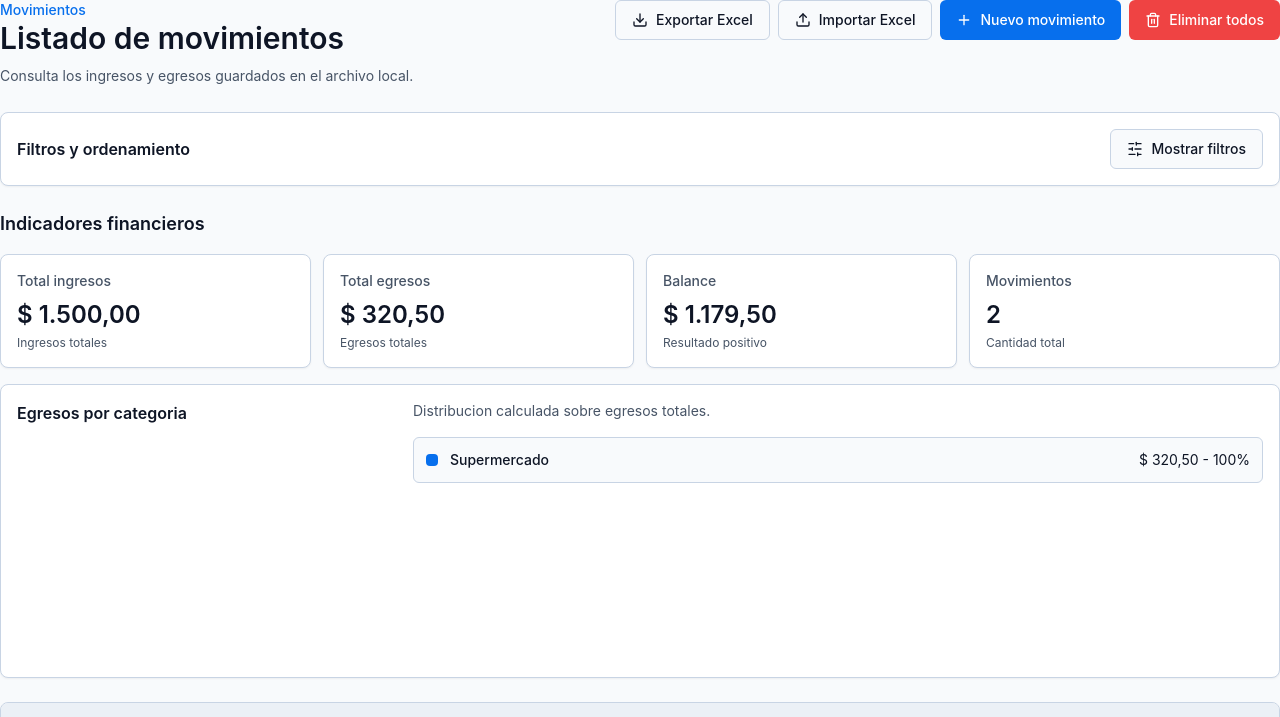
TransactionsPage › TransactionsPage_WhenDeleteAllPasswordIsValid_ShouldDeleteRefreshAndClose
Click the button "Eliminar todos" at (1205, 20), box [1129, 0, 1279, 40]
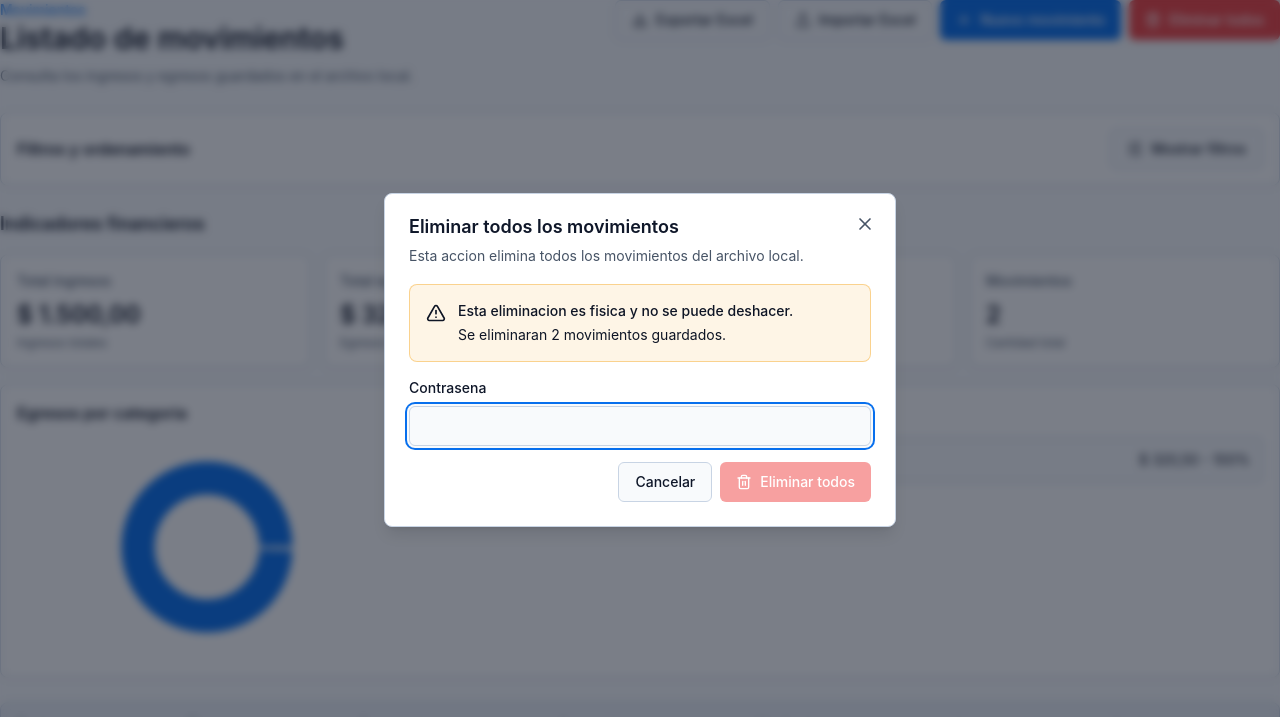
Type "correct-password" into the password field labelled "Contrasena" at (640, 426), box [409, 406, 871, 446]
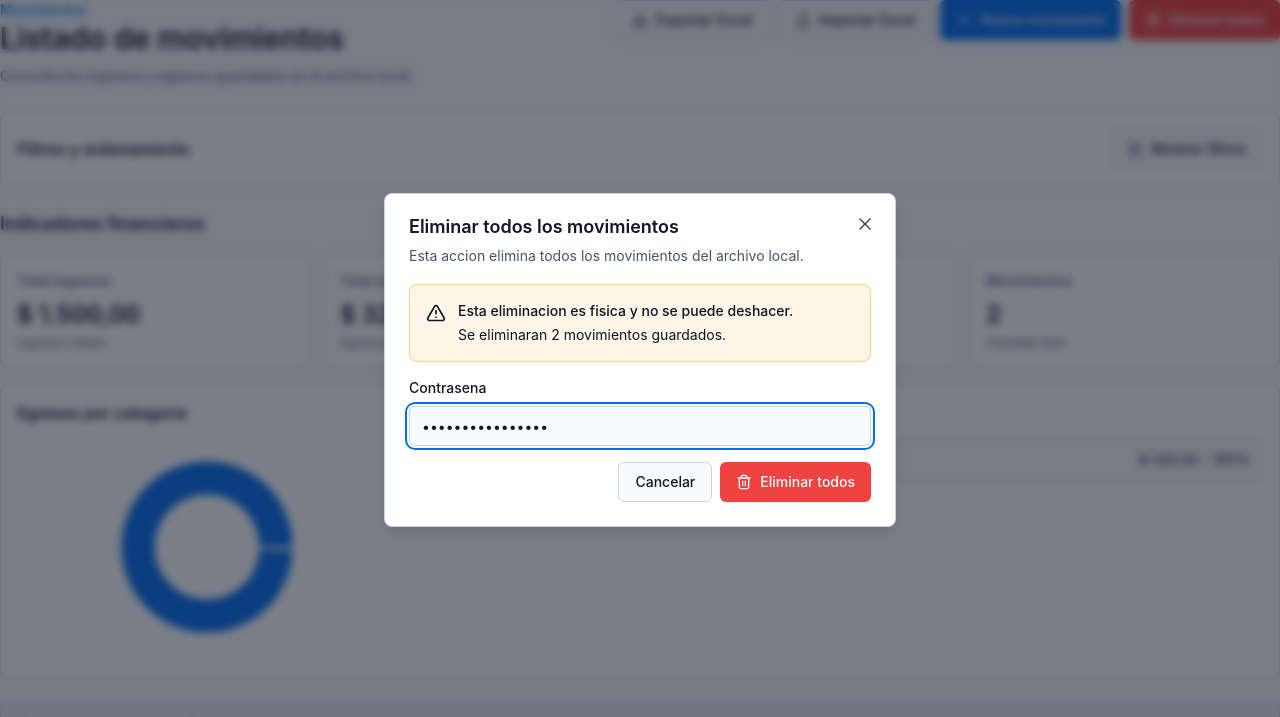
Click the button "Eliminar todos" at (796, 482), box [720, 462, 871, 502]
(page scrolled)
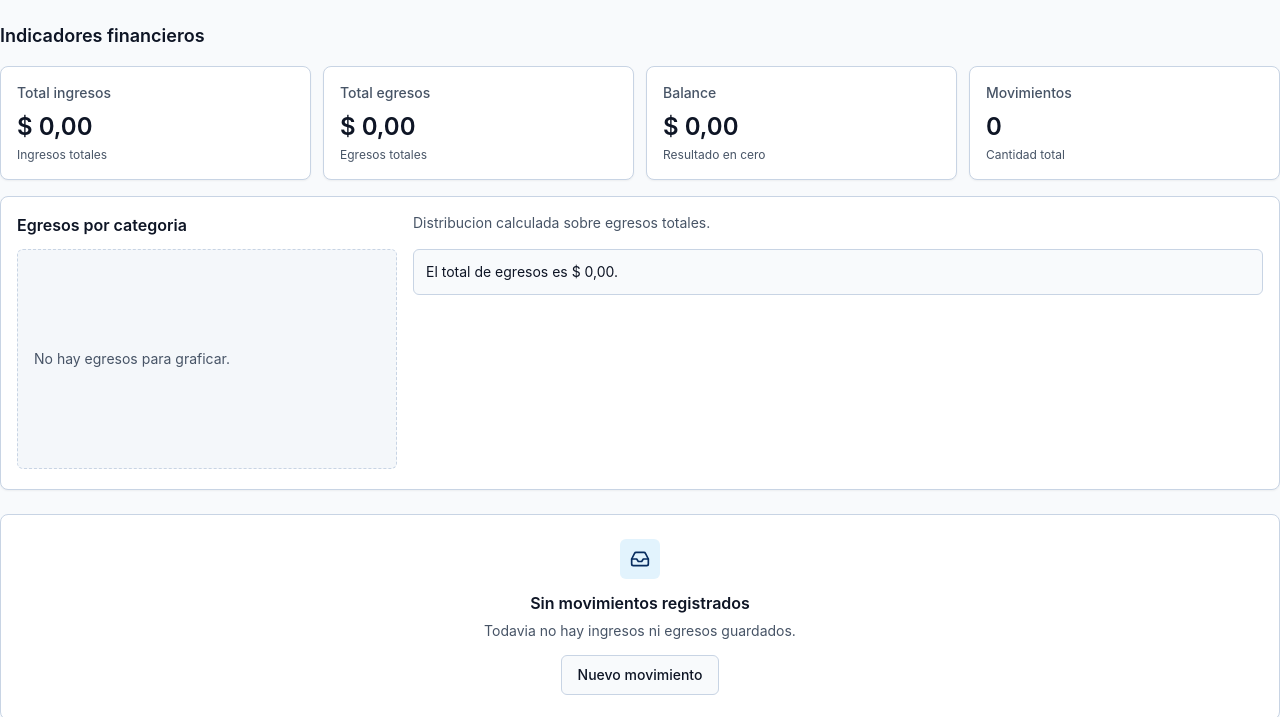
Now the heading "Sin movimientos registrados" is shown, box [530, 593, 750, 613]
Now the dialog is gone
